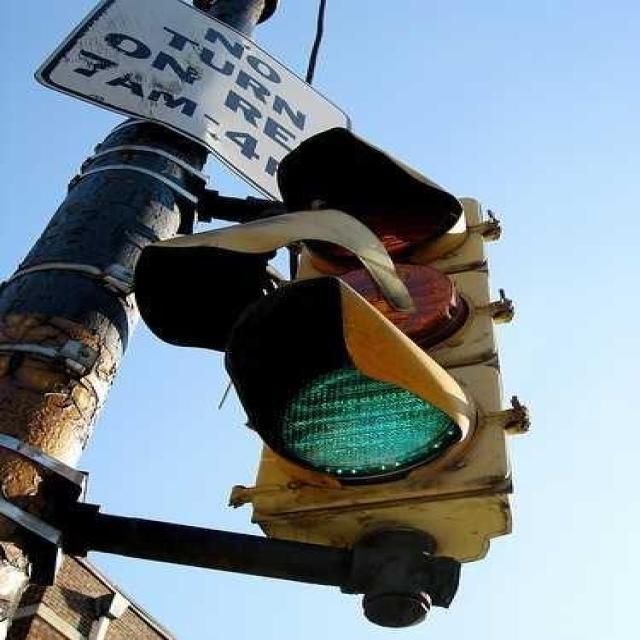Traffic Light -Green-: (222, 128, 542, 552)
